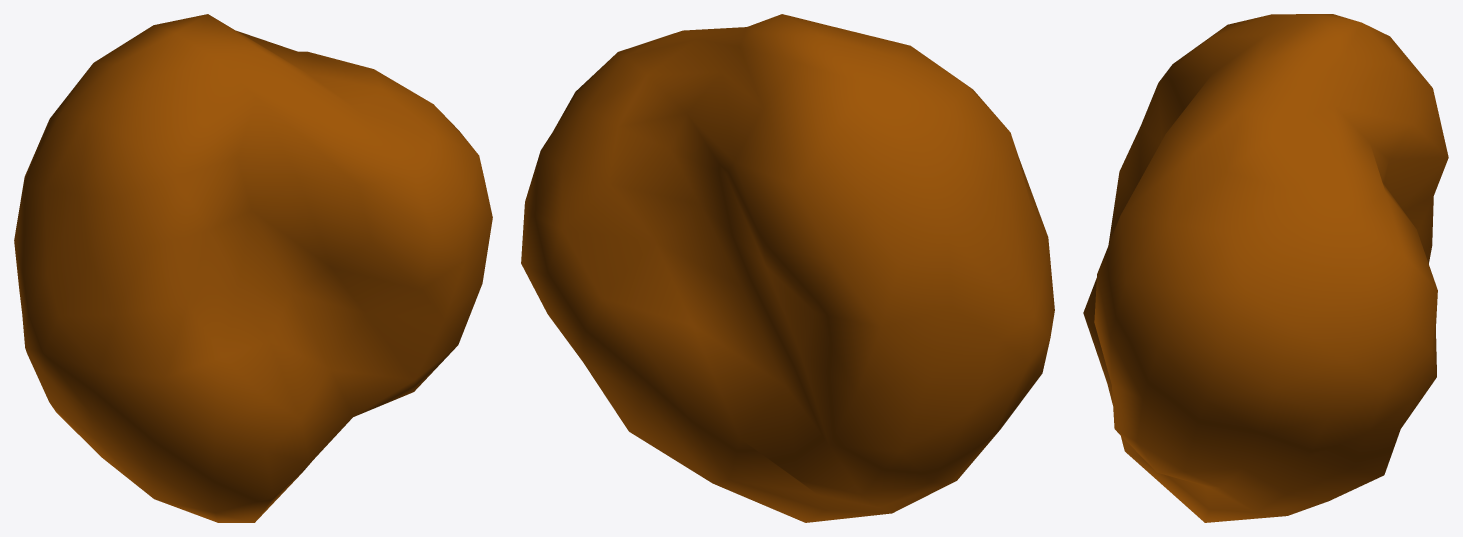
Rendered from MediumHybrid.fbx.
3 views of the same model, side by side, from view 1: azimuth 30°, elevation 25°; view 2: azimuth 150°, elevation 25°; view 3: azimuth 270°, elevation 25° (orthographic). The views are drawn at different scales.
Parts seen in each view (by area): view 1: Sphere.002; view 2: Sphere.002; view 3: Sphere.002.
Part boxes in pixels (left/top/right/bottom): Sphere.002: left=14, top=14, right=492, bottom=522; Sphere.002: left=521, top=14, right=1054, bottom=522; Sphere.002: left=1083, top=14, right=1448, bottom=522.
Bounding box in the file's own units: 7.21 × 7.26 × 4.87.
